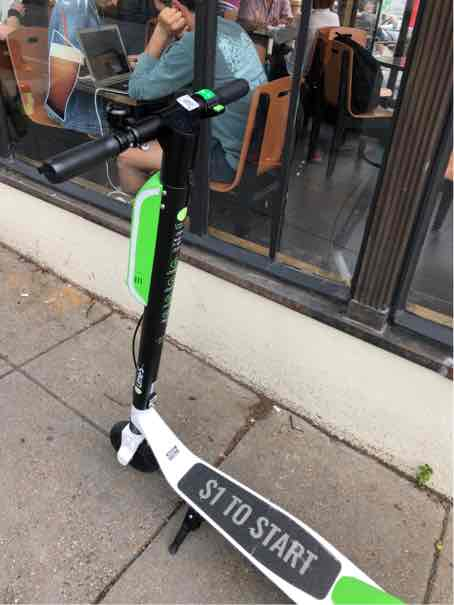scooter: (40, 93, 435, 605)
